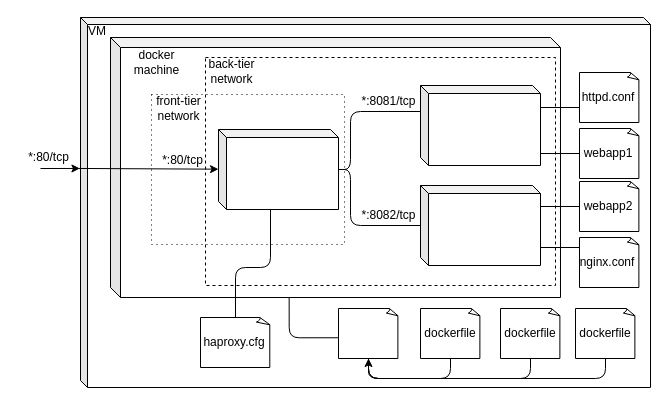
This 668x405 diagram has some shape labels left out. The centre of each missing label's shape, as x and y in pixels:
apache container: [480,125]
docker-compose: [368,333]
haproxy lb container: [278,169]
nginx container: [480,225]
